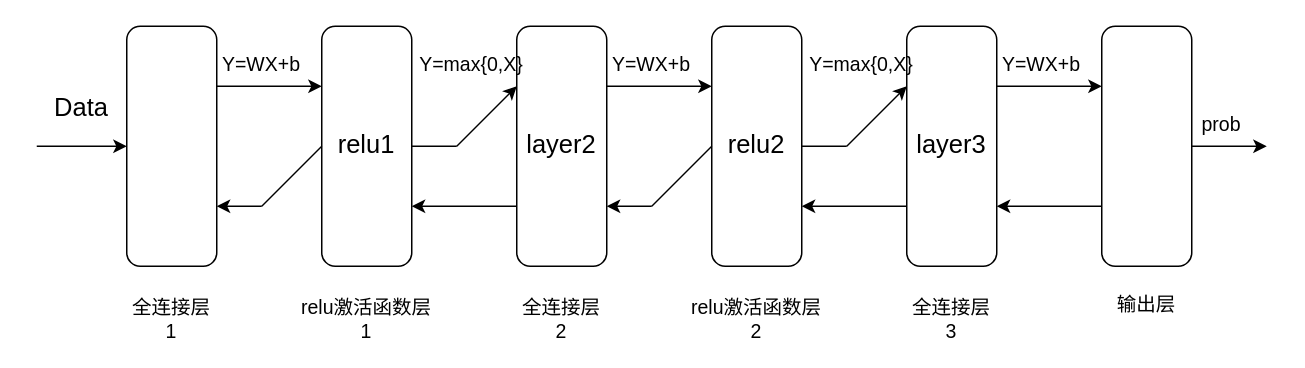
Image size: 1305x368. Some labels were removed from this diagram. The shapes that lost their labels are listed below. From the top down, each one's centre as x and y in pixels, then its label:
At (x=171, y=145): "layer1".
At (x=1146, y=145): "softmax".
